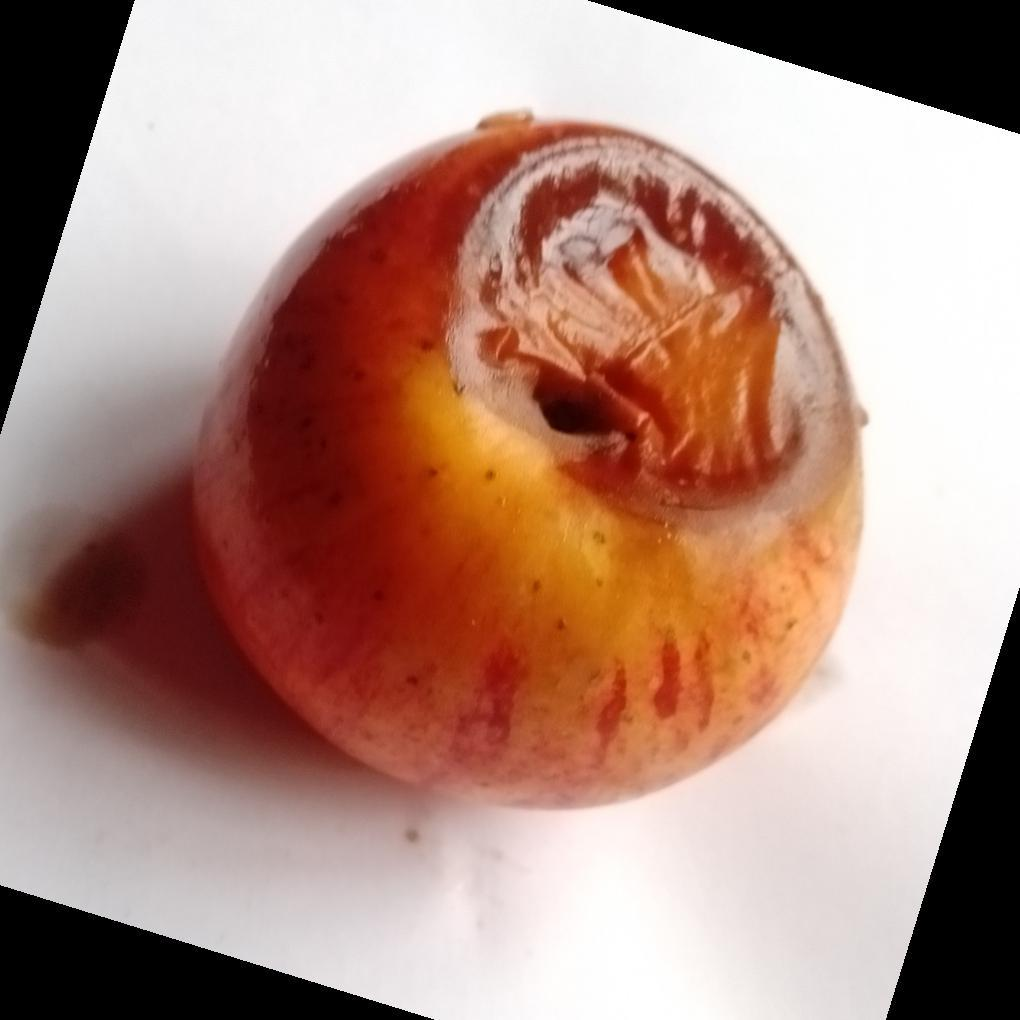FreshOrange: (188, 113, 867, 814)
